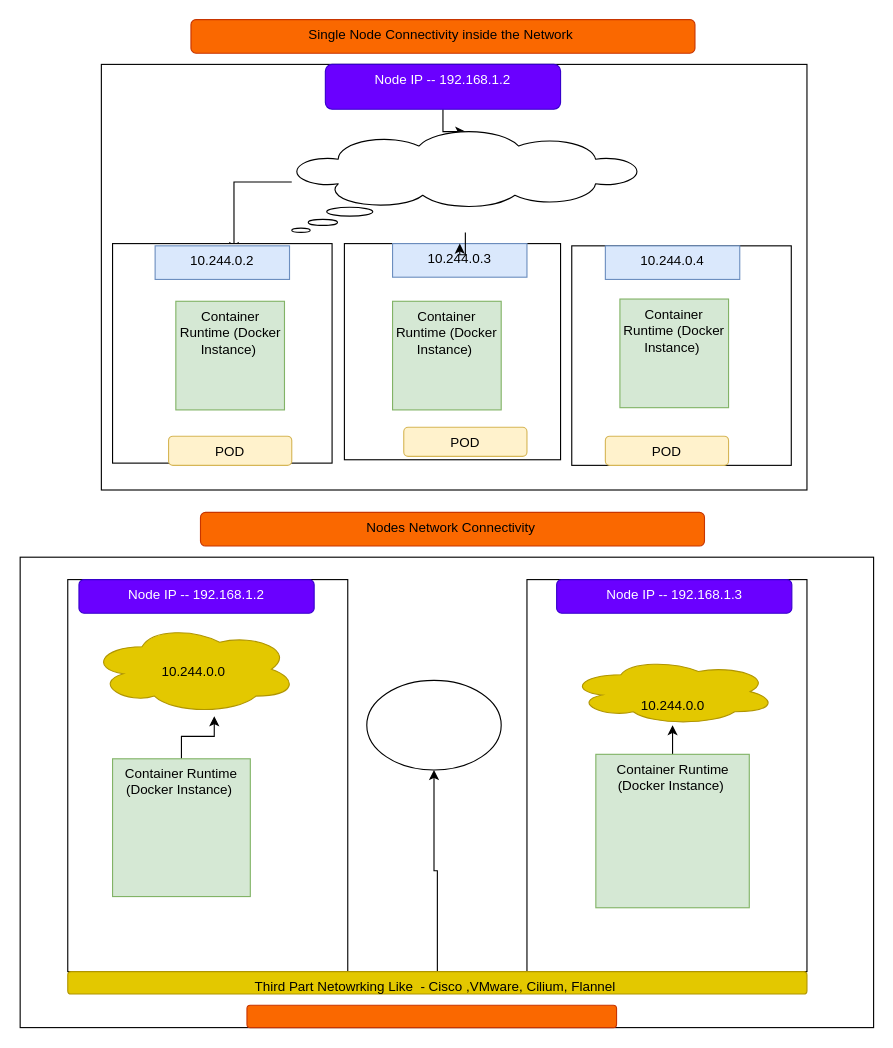
Some shapes in this 893 by 1048 pixel diagram are drawn without their labels. The shapes that lost their labels are listed below. From the top down, each one's centre as x and y in pixels, then its label:
At [465,181]: "Private Subnet When we configure will be assigned to Pods 10.244.0.0/16".
At [433,724]: "Third Part Networking Need to configured for Routing".
At [431,1016]: "Kubernets Cluster".
